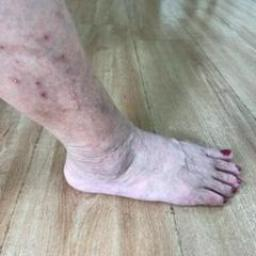Lateral View -Right Foot-: (42, 109, 250, 224)
